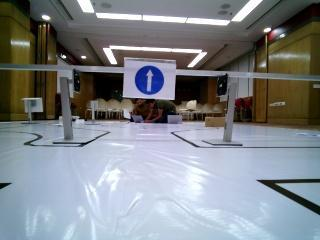straight: (125, 59, 177, 99)
